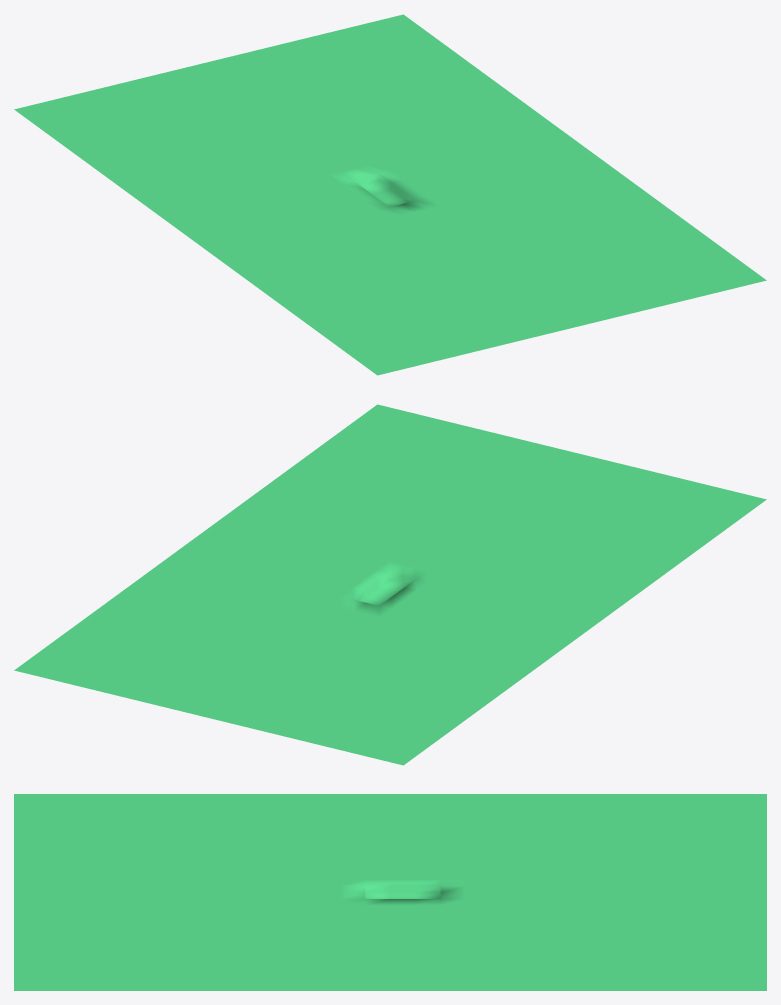
Rendered from GroundPlane.obj.
3 views of the same model, one above another, from view 1: azimuth 30°, elevation 25°; view 2: azimuth 150°, elevation 25°; view 3: azimuth 270°, elevation 25° (orthographic). The views are drawn at different scales.
Parts seen in each view (by area): view 1: Plane031; view 2: Plane031; view 3: Plane031.
Boxes of the visible parts, left/top/right/bottom form: Plane031: left=14, top=14, right=766, bottom=375; Plane031: left=14, top=404, right=766, bottom=765; Plane031: left=14, top=794, right=766, bottom=990.
Bounding box in the file's own units: 5747 × 92.14 × 9290.
